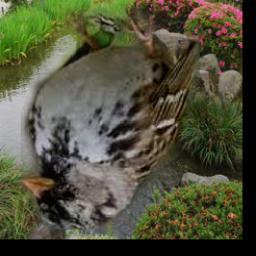Sparrow: (21, 5, 200, 231)
